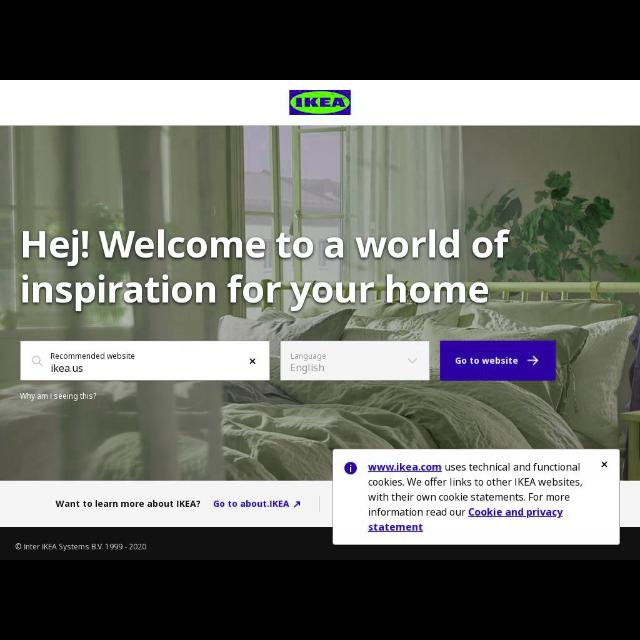icon: (31, 354, 43, 368), (344, 461, 356, 475), (526, 355, 540, 365), (292, 500, 302, 510), (601, 461, 609, 469), (407, 358, 417, 364), (15, 542, 22, 550), (249, 358, 255, 367)
image: (290, 90, 350, 114)
link: (468, 506, 564, 518), (368, 461, 442, 471), (368, 524, 424, 532)
spinner: (280, 340, 430, 380)
text: (22, 230, 510, 304), (369, 462, 583, 532), (55, 500, 201, 510), (289, 352, 327, 376), (19, 392, 96, 402), (24, 544, 148, 550), (50, 352, 134, 360), (212, 499, 290, 507), (456, 356, 518, 364), (51, 363, 83, 372)
textbutton: (441, 342, 555, 381)
